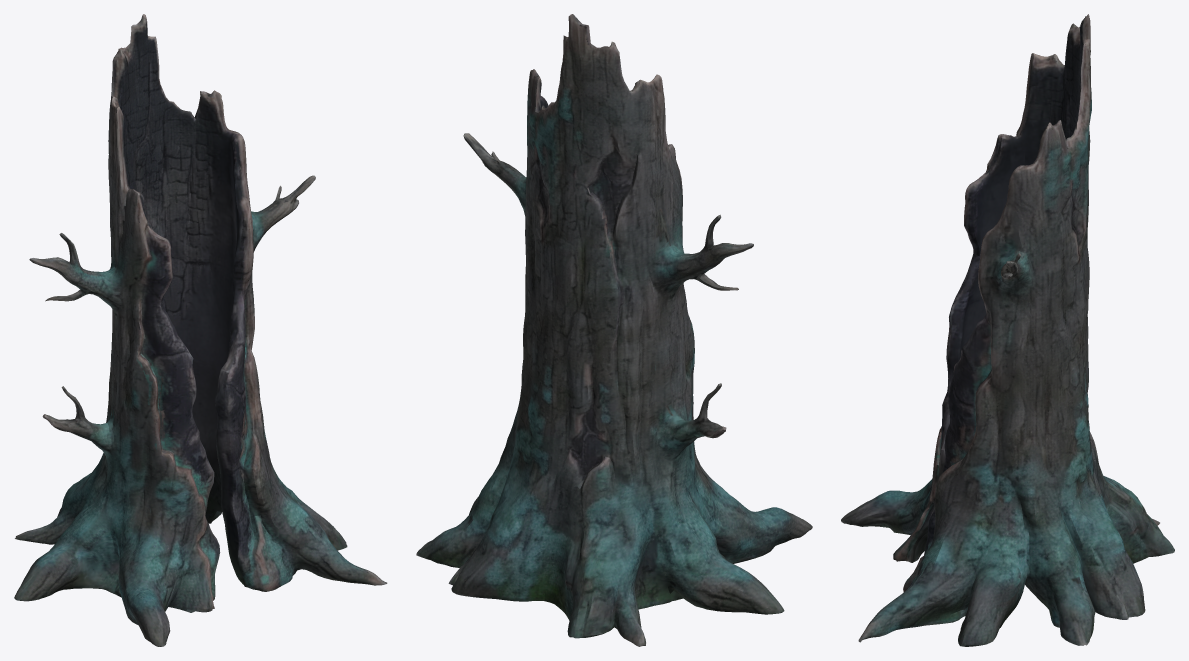
The model's file is scarred_trunk_v1.glb.
The picture shows the model from 3 angles, left to right: view 1: azimuth 30°, elevation 25°; view 2: azimuth 150°, elevation 25°; view 3: azimuth 270°, elevation 25°; orthographic projection. The views are drawn at different scales.
Parts seen in each view (by area): view 1: Mesh_0; view 2: Mesh_0; view 3: Mesh_0.
Part boxes in pixels (x1,y1,x2,y2): Mesh_0: (14, 14, 387, 646); Mesh_0: (416, 14, 812, 646); Mesh_0: (841, 14, 1174, 646).
Size of the model in its own units: 1.16 by 1.9 by 1.03.
Materials: 1 (1 with a texture image).
